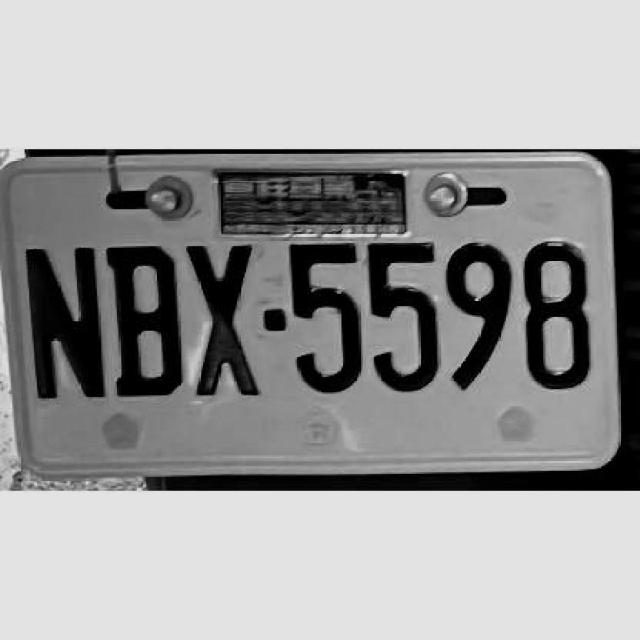-: (265, 314, 286, 335)
5: (364, 236, 442, 396), (286, 238, 365, 391)
8: (518, 234, 592, 394)
9: (440, 238, 518, 388)
B: (105, 242, 186, 396)
N: (20, 238, 108, 402)
X: (186, 237, 259, 398)
